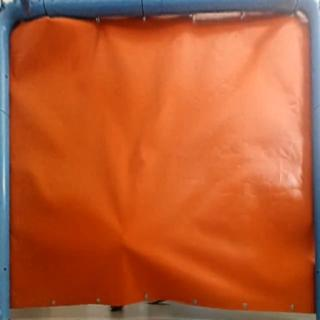Hit-hRxx: (117, 235, 134, 251)
